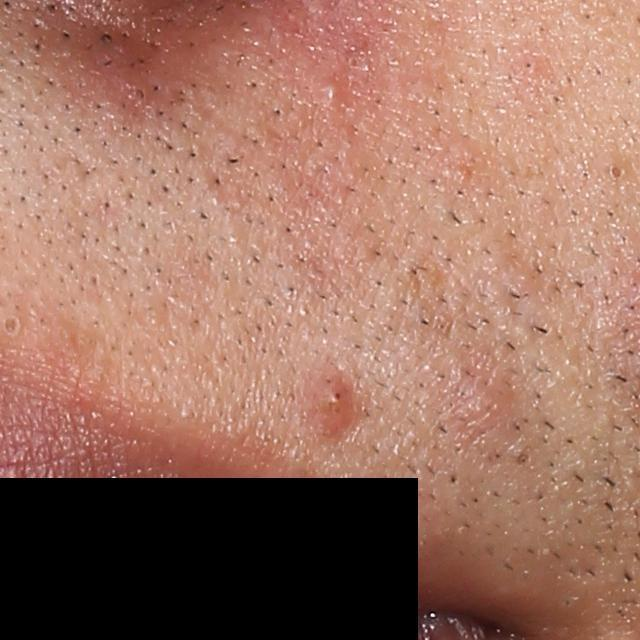papule: (436, 363, 514, 439), (75, 17, 163, 74), (301, 367, 357, 446)
pustule: (313, 76, 351, 107)
